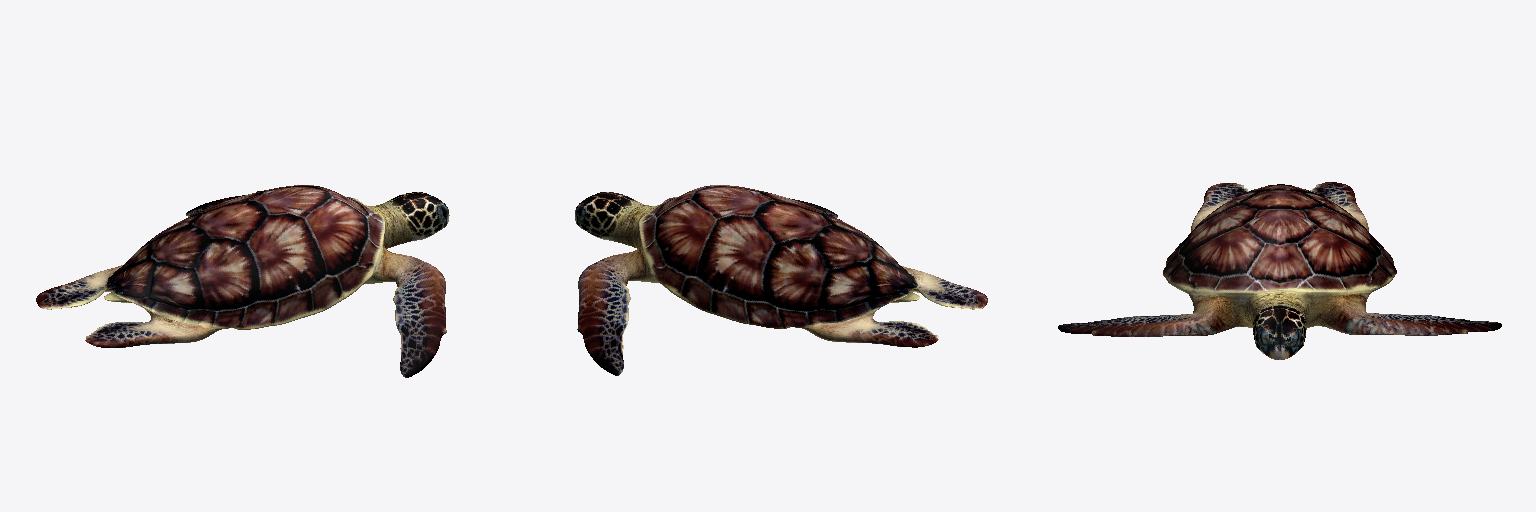
3 views of the same model, side by side, from view 1: azimuth 30°, elevation 25°; view 2: azimuth 150°, elevation 25°; view 3: azimuth 270°, elevation 25° (orthographic).
Visible parts, largest first — view 1: 10042_Sea_Turtle_V1; view 2: 10042_Sea_Turtle_V1; view 3: 10042_Sea_Turtle_V1.
Part boxes in pixels (x1,y1,x2,y2): 10042_Sea_Turtle_V1: (36, 185, 449, 377); 10042_Sea_Turtle_V1: (575, 185, 987, 375); 10042_Sea_Turtle_V1: (1058, 182, 1501, 359).
Size of the model in its own units: 102 by 26.04 by 102.
Materials: 1 (1 with a texture image).